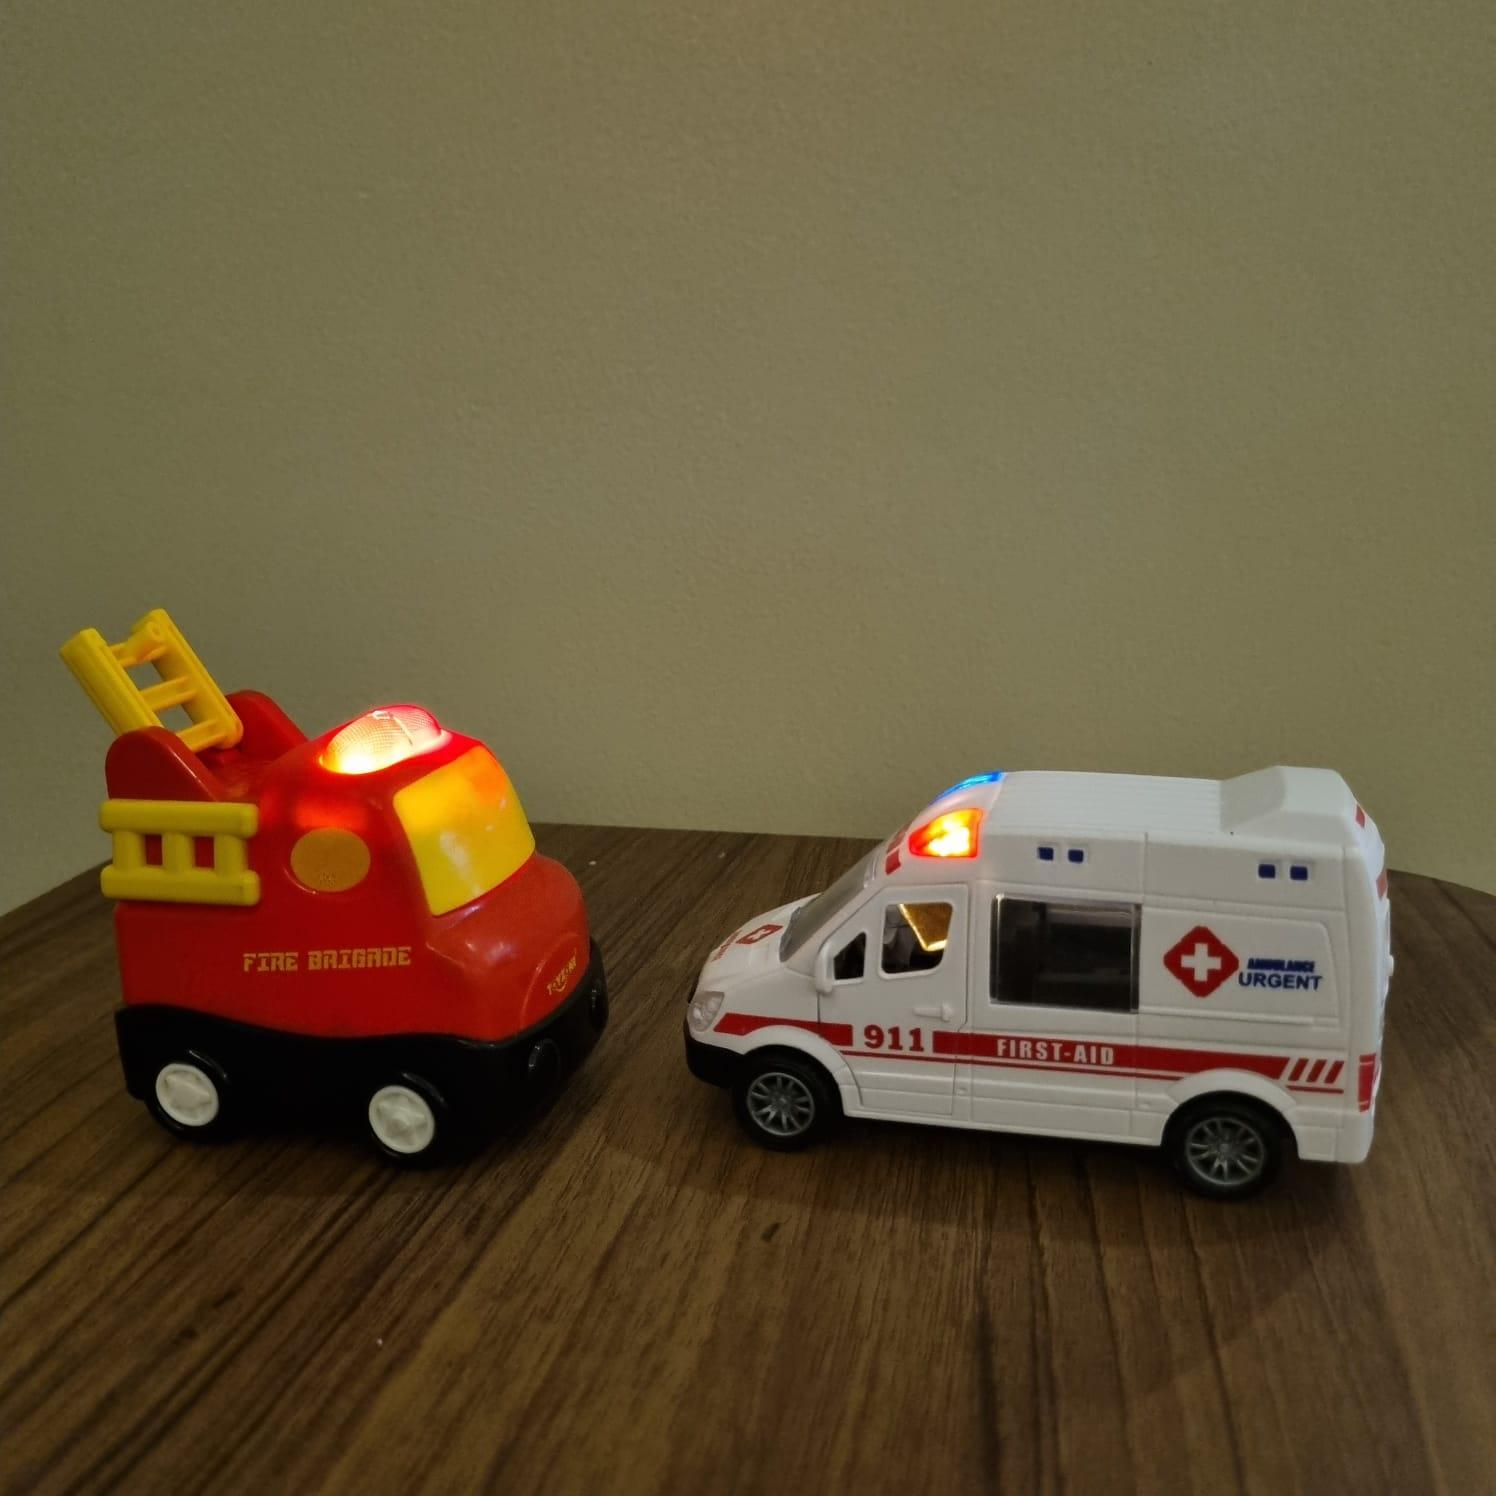ambulance_on: (686, 766, 1393, 1199)
firetruck_on: (58, 607, 607, 1159)
